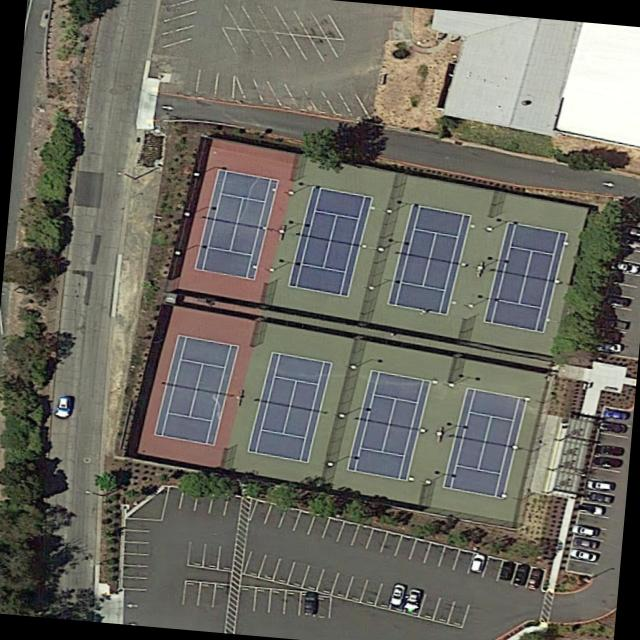small-vehicle: (402, 588, 423, 613), (598, 419, 627, 437), (387, 583, 407, 607), (600, 318, 631, 333), (511, 563, 530, 587), (469, 552, 488, 575), (593, 442, 624, 456), (569, 547, 596, 563), (583, 490, 613, 504), (497, 560, 516, 582), (613, 260, 640, 275), (526, 569, 545, 590), (577, 503, 605, 517), (591, 454, 619, 468), (54, 397, 72, 418), (587, 479, 614, 493), (571, 525, 600, 538), (603, 409, 629, 422), (605, 295, 629, 308), (572, 537, 598, 549), (303, 594, 316, 617), (619, 236, 640, 250), (594, 342, 621, 352), (623, 225, 640, 237)
